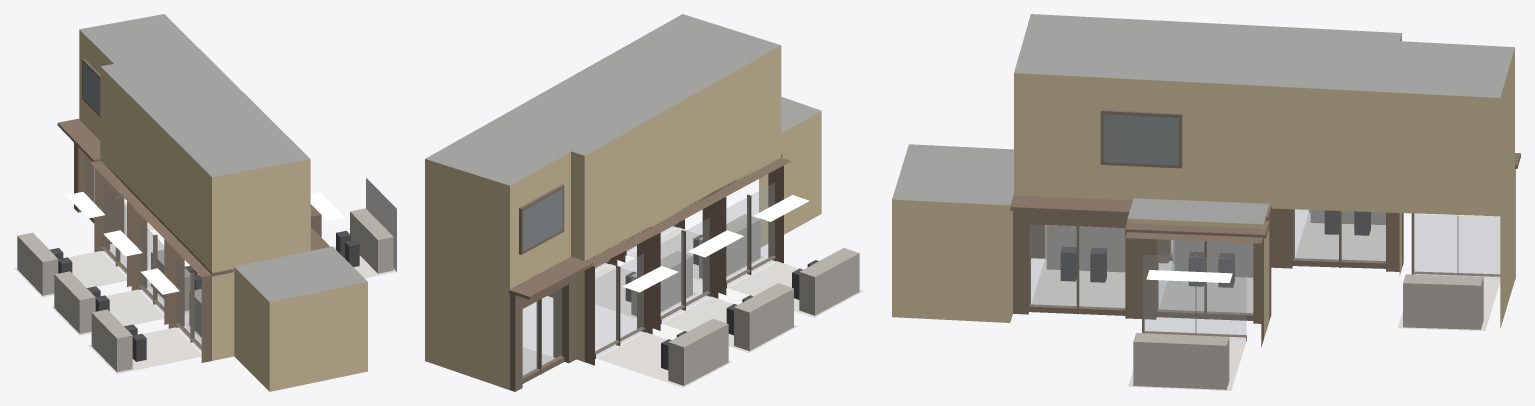
File: d12-nonbei-w138670898-row.glb
The picture shows the model from 3 angles, left to right: view 1: azimuth 30°, elevation 25°; view 2: azimuth 150°, elevation 25°; view 3: azimuth 270°, elevation 25°; orthographic projection. The views are drawn at different scales.
Visible parts, largest first — view 1: INFERRED_facade.001, INFERRED_ground.001; view 2: INFERRED_facade.001, INFERRED_ground.001; view 3: INFERRED_facade.001, INFERRED_ground.001.
Part boxes in pixels (x1,y1,x2,y2): INFERRED_facade.001: [14, 14, 396, 391]; INFERRED_ground.001: [66, 154, 344, 351]; INFERRED_facade.001: [425, 14, 863, 391]; INFERRED_ground.001: [523, 183, 809, 376]; INFERRED_facade.001: [892, 14, 1520, 390]; INFERRED_ground.001: [1030, 209, 1499, 341].
Bounding box in the file's own units: 9.55 × 5.4 × 12.63.
Materials: 3 (1 with a texture image).
